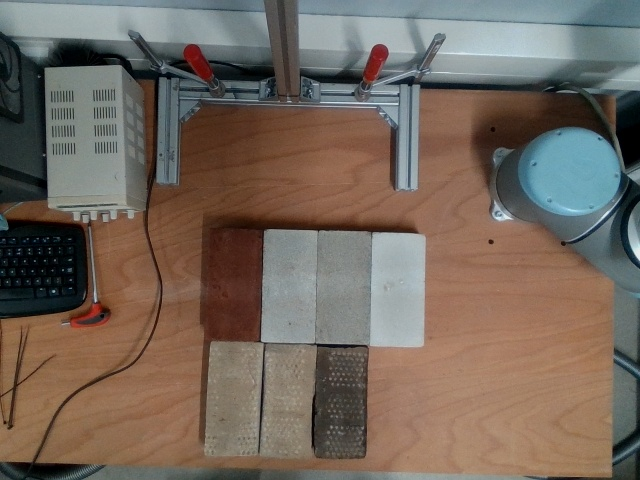brick: (313, 230, 371, 345), (203, 341, 262, 454), (258, 343, 315, 456), (259, 230, 316, 341), (369, 234, 425, 346), (313, 347, 366, 458), (208, 230, 261, 339)
